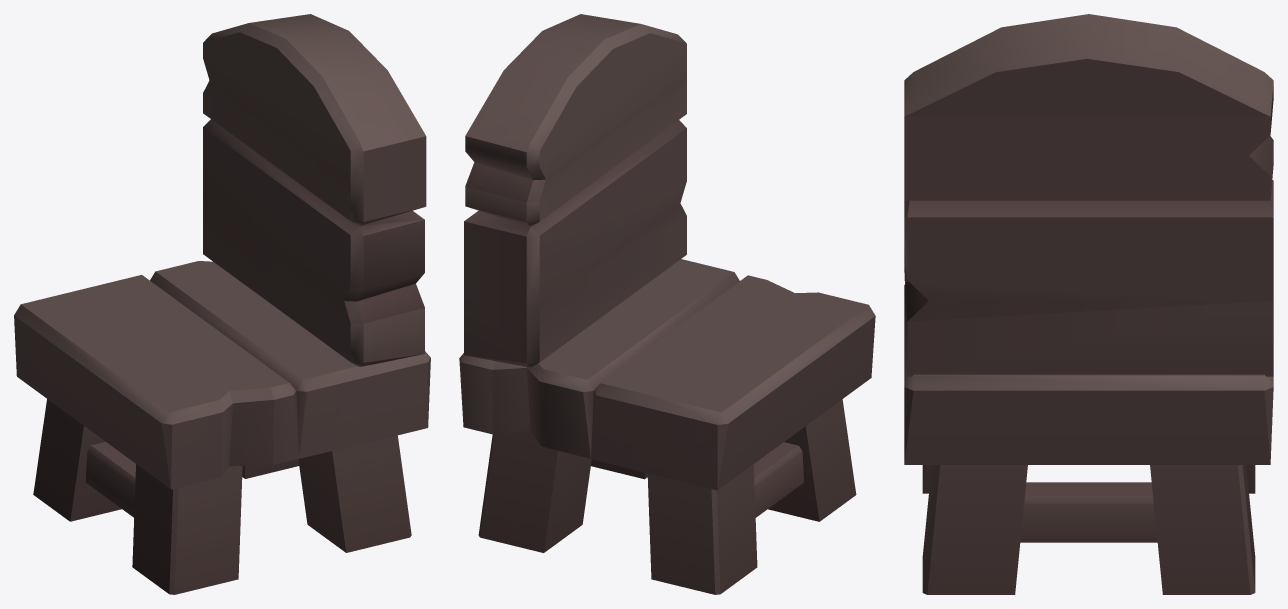
File: chair.glb
3 renders of one model, left to right at view 1: azimuth 30°, elevation 25°; view 2: azimuth 150°, elevation 25°; view 3: azimuth 270°, elevation 25°, orthographic. The views are drawn at different scales.
Parts seen in each view (by area): view 1: chair; view 2: chair; view 3: chair.
Part boxes in pixels (box(x1,y1,x2,y2)): chair: box(14, 14, 430, 594); chair: box(459, 14, 875, 594); chair: box(904, 14, 1273, 594).
Size of the model in its own units: 0.75 by 1.23 by 0.75.
1 material, 1 textured.
